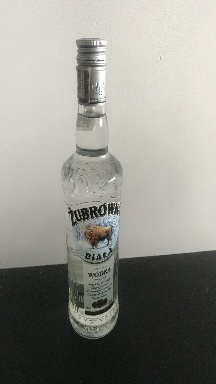butelka: (59, 33, 124, 342)
